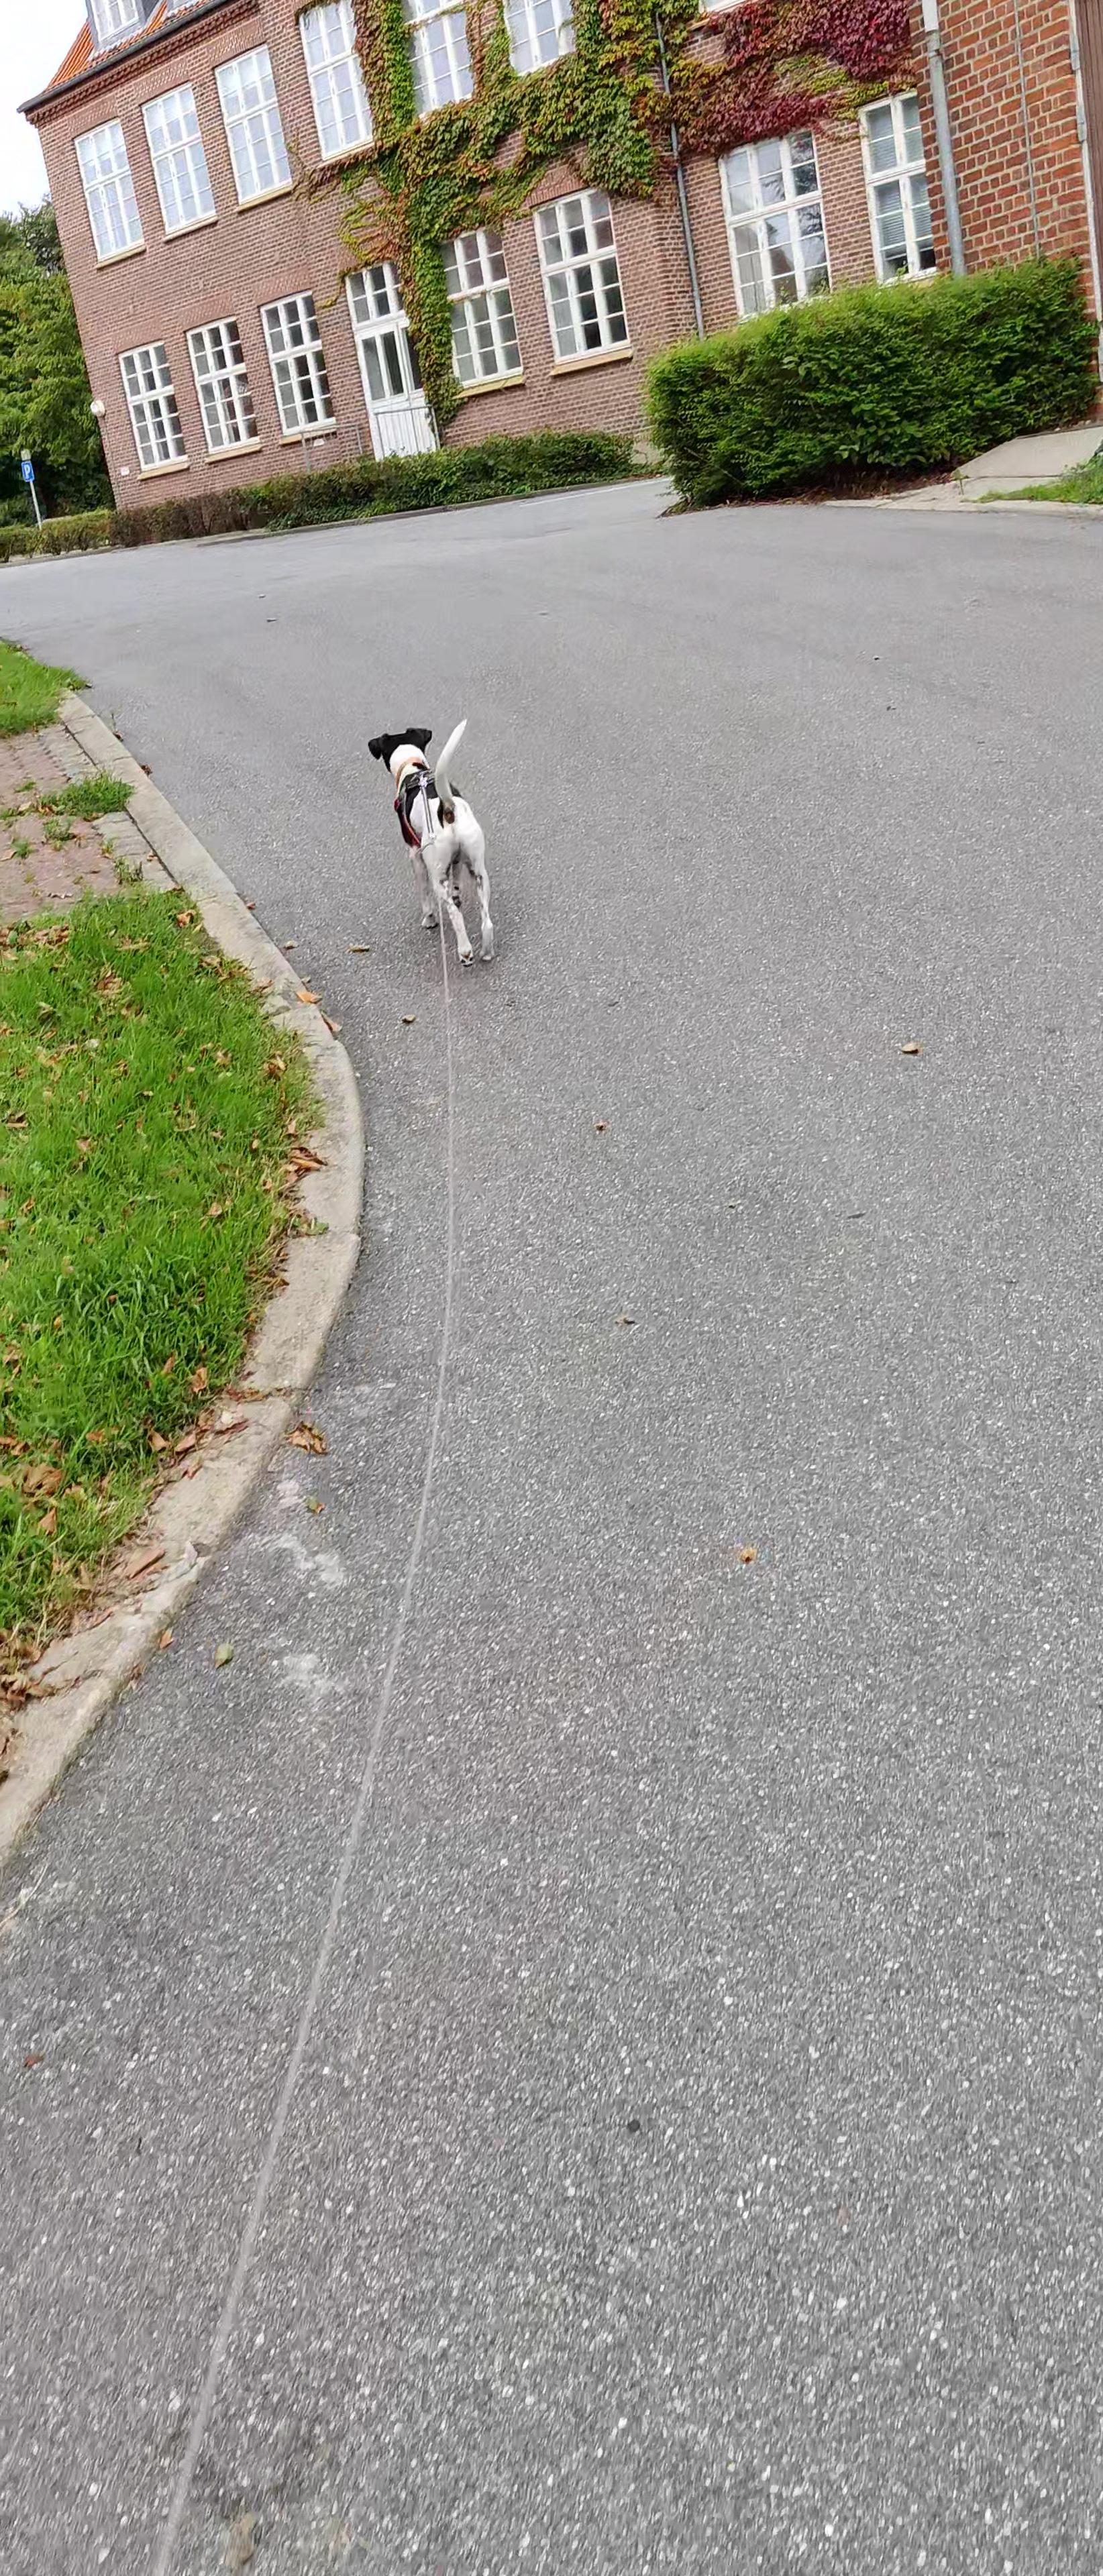Dog: (352, 705, 521, 979)
